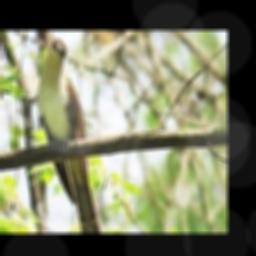Cuckoo: (37, 39, 101, 233)
